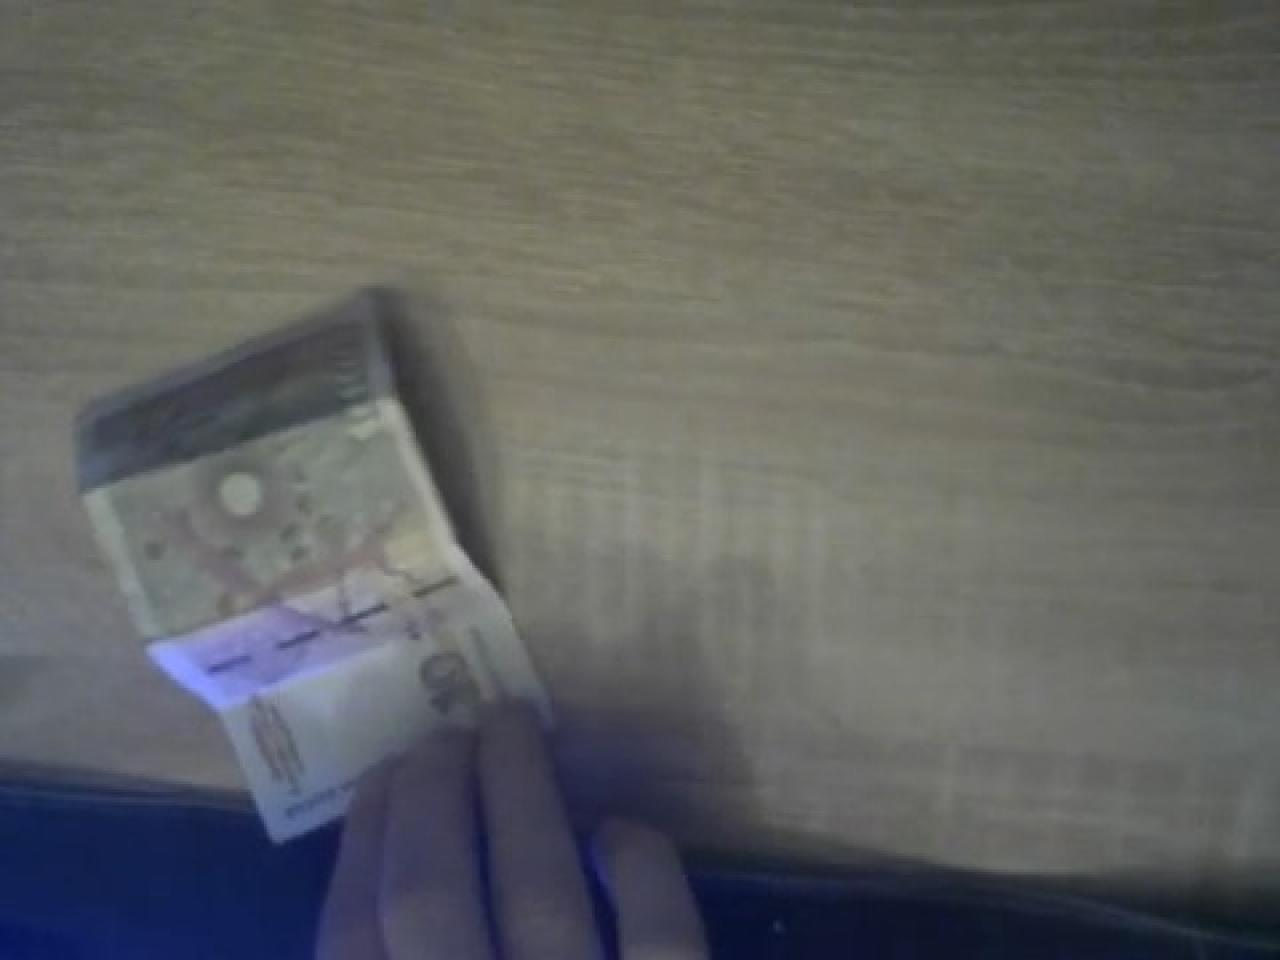10leva: (72, 285, 557, 843)
